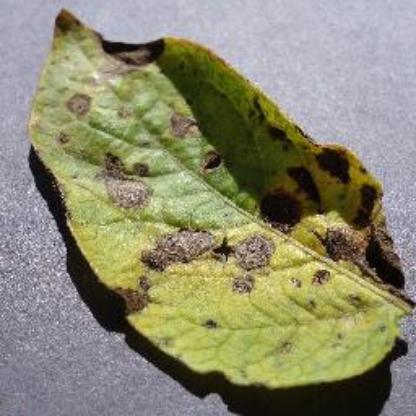Early-Blight: (25, 3, 416, 397)
